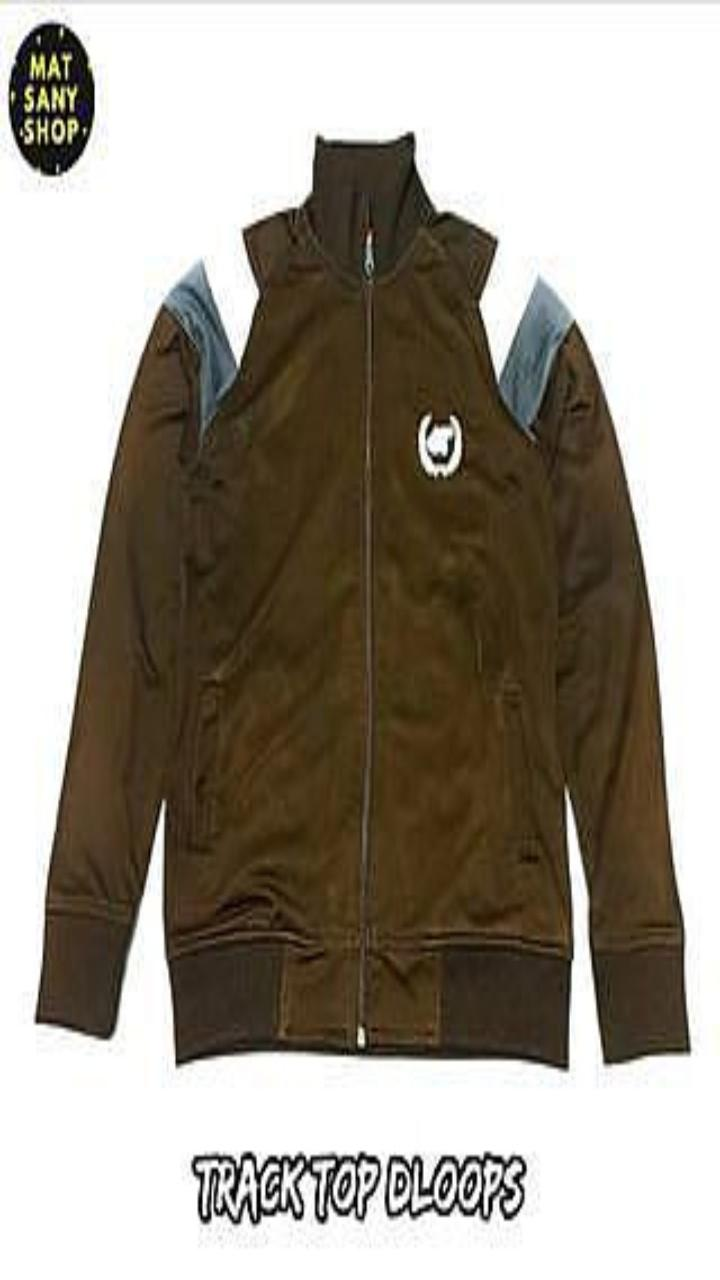Sports_Jacket: (35, 133, 688, 1065)
